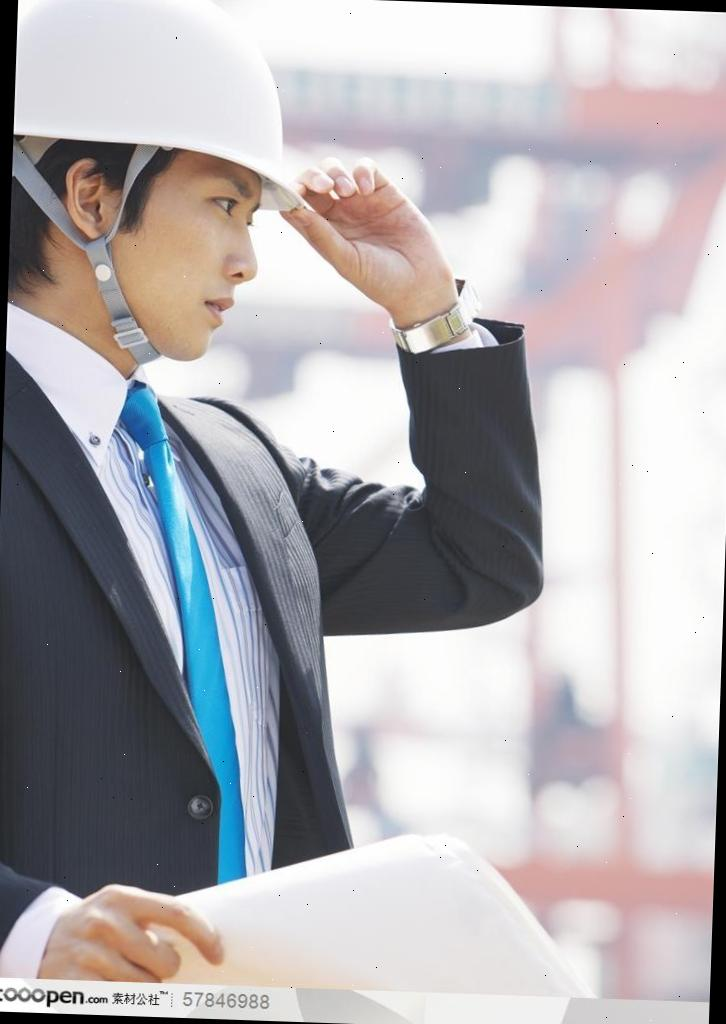helmet: (11, 0, 315, 199)
no_wear: (0, 383, 334, 891)
